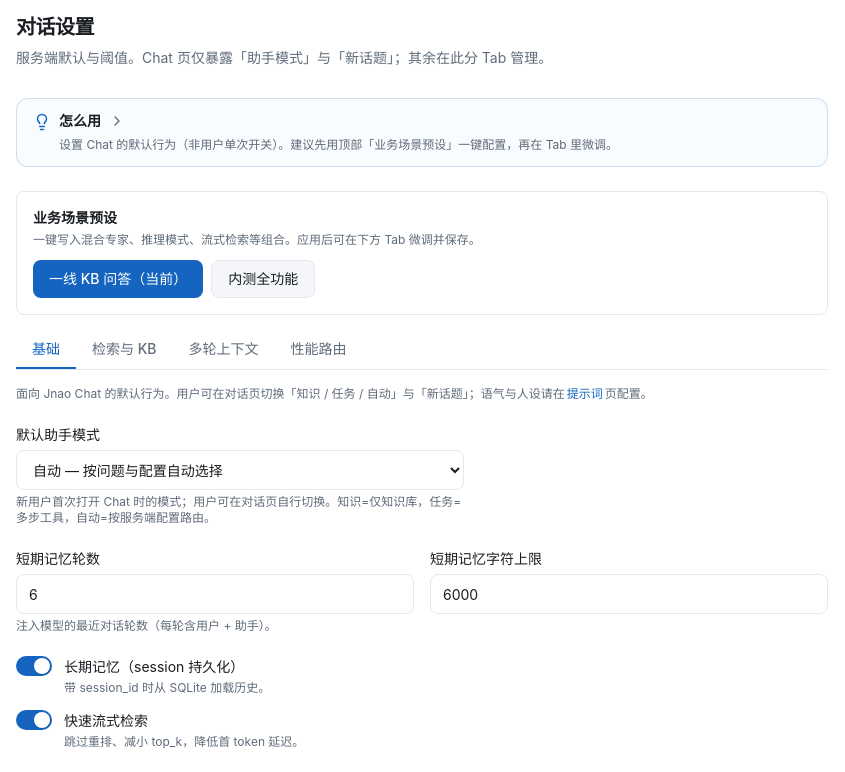
Test case: MemoryPage › shows KB settings on kb tab
Click the button "检索与 KB": (124, 350) [76,331,173,369]
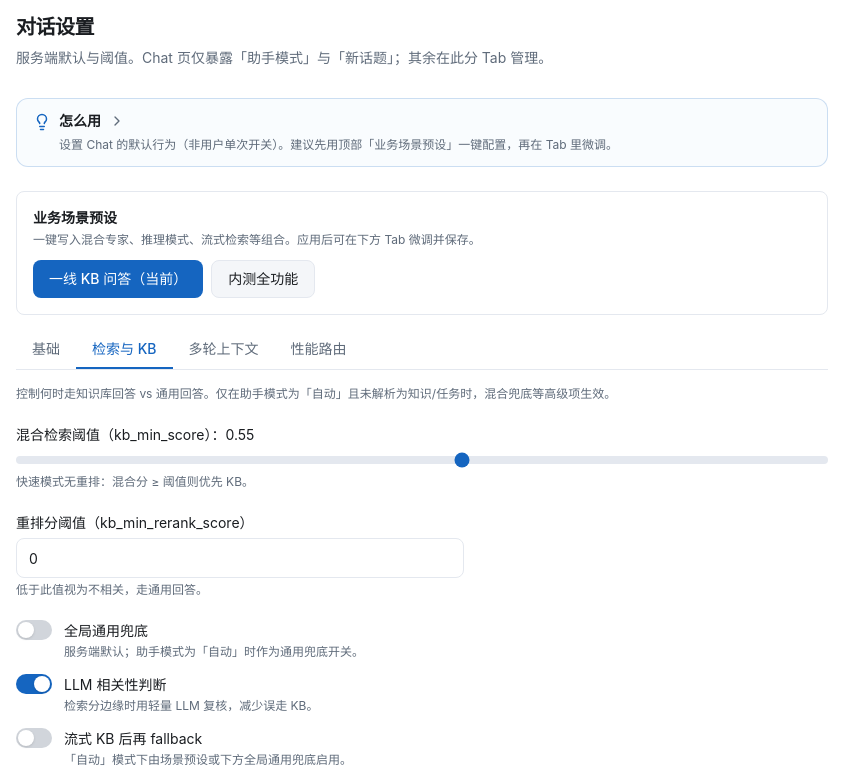
Expected: the text "LLM 相关性判断" is shown, [64,676,166,693]
Expected: the text "全局通用兜底" is shown, [64,622,148,639]
